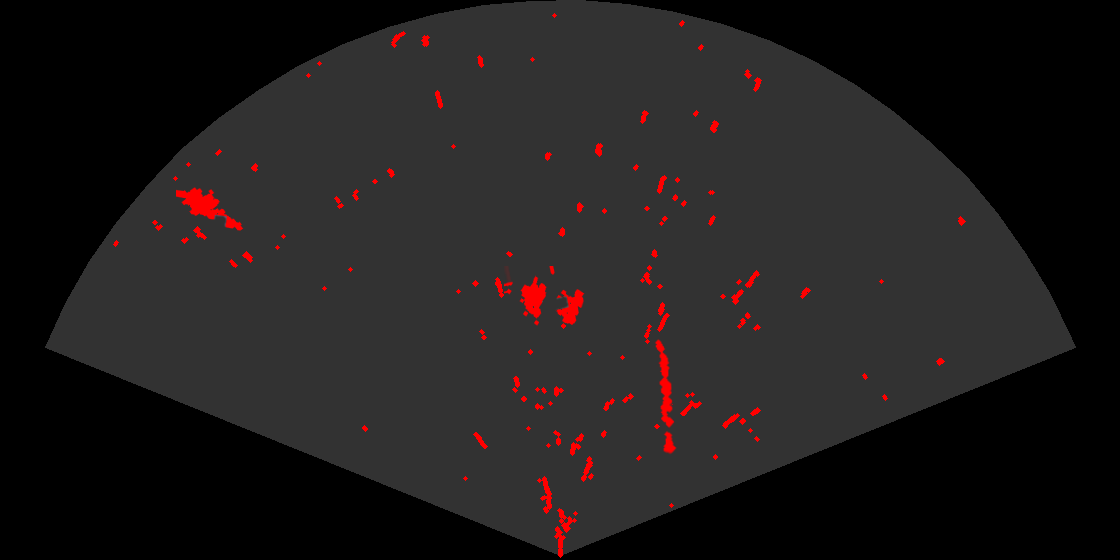cage: (504, 266, 586, 327)
chain: (653, 338, 678, 455)
frogman: (176, 186, 245, 232)
